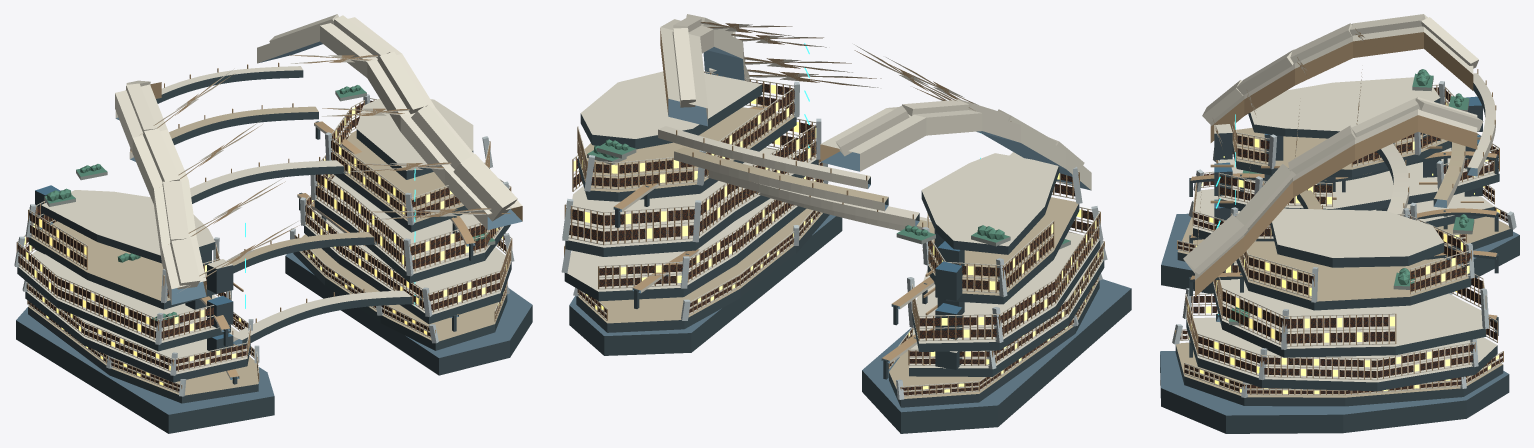
The model's file is G4E7BW_HALOCUT_CONCOURSE_ART_ONLY.glb.
The picture shows the model from 3 angles, left to right: view 1: azimuth 30°, elevation 25°; view 2: azimuth 150°, elevation 25°; view 3: azimuth 270°, elevation 25°; orthographic projection. The views are drawn at different scales.
Parts seen in each view (by area): view 1: West concourse real concrete inhabited foundation, EAST crossing glass-canopy structural megatruss visibly roof, East occupied ground logistics and transit foundation, W / inhabitable tapered public floor 4, WEST independent station concourse roof megatruss visibly ro, W / inhabitable tapered public floor 2, W / inhabitable tapered public floor 3, E / inhabitable tapered public floor 2, E / inhabitable tapered public floor 1, E / inhabitable tapered public floor 0, W / inhabitable tapered public floor 1, W / inhabitable tapered public floor 0 (+31 smaller); view 2: W / inhabitable tapered public floor 4, West concourse real concrete inhabited foundation, E / inhabitable tapered public floor 4, WEST independent station concourse roof megatruss visibly ro, E / inhabitable tapered public floor 0, E / inhabitable tapered public floor 2, E / inhabitable tapered public floor 1, East occupied ground logistics and transit foundation, W / inhabitable tapered public floor 2, E / inhabitable tapered public floor 3, EAST crossing glass-canopy structural megatruss visibly roof, W / inhabitable tapered public floor 3 (+26 smaller); view 3: East occupied ground logistics and transit foundation, E / inhabitable tapered public floor 2, E / inhabitable tapered public floor 4, E / inhabitable tapered public floor 1, E / inhabitable tapered public floor 3, W / inhabitable tapered public floor 4, EAST crossing glass-canopy structural megatruss visibly roof, WEST independent station concourse roof megatruss visibly ro, E / inhabitable tapered public floor 0, W / inhabitable tapered public floor 2, W / inhabitable tapered public floor 3, West concourse real concrete inhabited foundation (+28 smaller).
Part boxes in pixels (x1=…): West concourse real concrete inhabited foundation: x1=16, y1=307, x2=274, y2=433; EAST crossing glass-canopy structural megatruss visibly roof: x1=257, y1=17, x2=522, y2=229; East occupied ground logistics and transit foundation: x1=285, y1=253, x2=532, y2=375; W / inhabitable tapered public floor 4: x1=41, y1=190, x2=215, y2=263; WEST independent station concourse roof megatruss visibly ro: x1=115, y1=82, x2=206, y2=304; W / inhabitable tapered public floor 2: x1=17, y1=250, x2=230, y2=351; W / inhabitable tapered public floor 3: x1=28, y1=221, x2=215, y2=309; E / inhabitable tapered public floor 2: x1=314, y1=175, x2=510, y2=283; E / inhabitable tapered public floor 1: x1=304, y1=212, x2=511, y2=324; E / inhabitable tapered public floor 0: x1=293, y1=234, x2=507, y2=350; W / inhabitable tapered public floor 1: x1=25, y1=286, x2=250, y2=382; W / inhabitable tapered public floor 0: x1=28, y1=306, x2=258, y2=403; W / inhabitable tapered public floor 4: x1=921, y1=153, x2=1059, y2=254; West concourse real concrete inhabited foundation: x1=862, y1=279, x2=1131, y2=433; E / inhabitable tapered public floor 4: x1=580, y1=71, x2=762, y2=149; WEST independent station concourse roof megatruss visibly ro: x1=820, y1=107, x2=1091, y2=190; E / inhabitable tapered public floor 0: x1=576, y1=208, x2=829, y2=332; E / inhabitable tapered public floor 2: x1=565, y1=148, x2=818, y2=256; E / inhabitable tapered public floor 1: x1=564, y1=198, x2=806, y2=301; East occupied ground logistics and transit foundation: x1=569, y1=214, x2=842, y2=355; W / inhabitable tapered public floor 2: x1=912, y1=232, x2=1100, y2=351; E / inhabitable tapered public floor 3: x1=578, y1=107, x2=796, y2=201; EAST crossing glass-canopy structural megatruss visibly roof: x1=660, y1=19, x2=749, y2=126; W / inhabitable tapered public floor 3: x1=927, y1=197, x2=1079, y2=304; East occupied ground logistics and transit foundation: x1=1160, y1=351, x2=1509, y2=433; E / inhabitable tapered public floor 2: x1=1212, y1=280, x2=1485, y2=357; E / inhabitable tapered public floor 4: x1=1270, y1=208, x2=1444, y2=267; E / inhabitable tapered public floor 1: x1=1186, y1=317, x2=1497, y2=391; E / inhabitable tapered public floor 3: x1=1236, y1=241, x2=1471, y2=310; W / inhabitable tapered public floor 4: x1=1248, y1=77, x2=1440, y2=138; EAST crossing glass-canopy structural megatruss visibly roof: x1=1195, y1=97, x2=1477, y2=296; WEST independent station concourse roof megatruss visibly ro: x1=1210, y1=14, x2=1473, y2=142; E / inhabitable tapered public floor 0: x1=1175, y1=342, x2=1503, y2=406; W / inhabitable tapered public floor 2: x1=1218, y1=147, x2=1499, y2=211; W / inhabitable tapered public floor 3: x1=1232, y1=127, x2=1451, y2=177; West concourse real concrete inhabited foundation: x1=1161, y1=213, x2=1519, y2=294.
Size of the model in its own units: 526 by 318 by 371.
13 materials, 1 textured.
